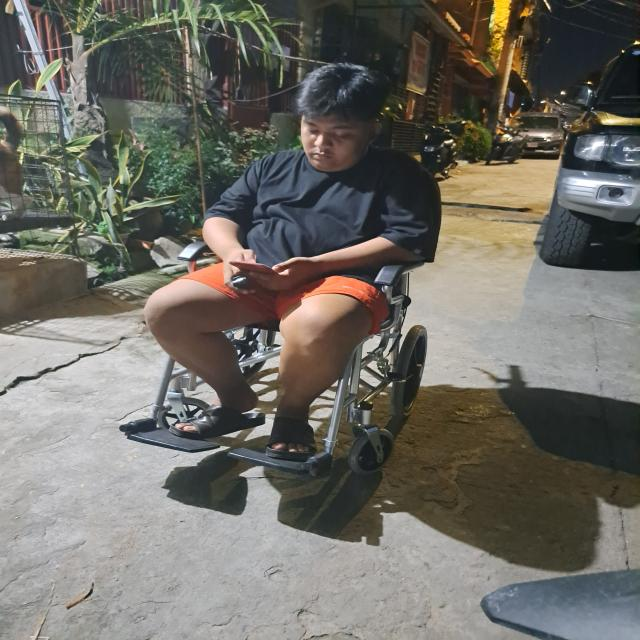wheelchairs: (119, 224, 454, 509)
